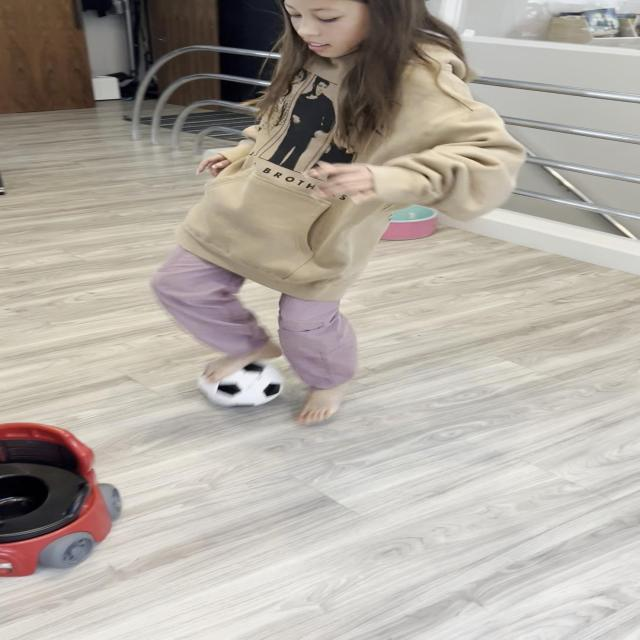Soccer Ball: (201, 361, 284, 408)
